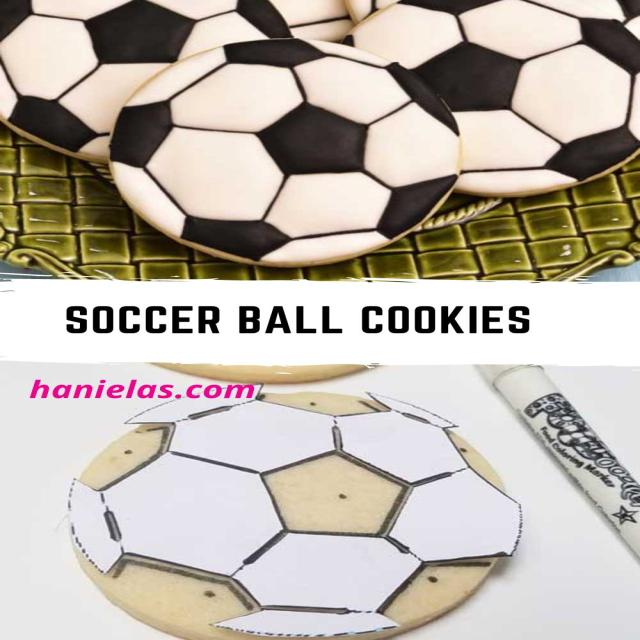soccer ball: (112, 38, 461, 266)
